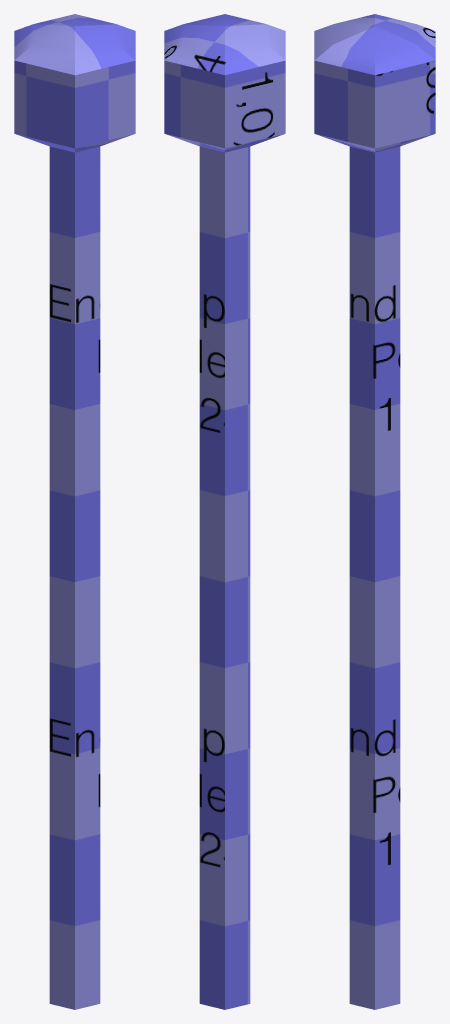
File: Pole_c.fbx
3 views of the same model, side by side, from view 1: azimuth 30°, elevation 25°; view 2: azimuth 150°, elevation 25°; view 3: azimuth 330°, elevation 25° (orthographic).
Visible parts, largest first — view 1: Pole_C; view 2: Pole_C; view 3: Pole_C.
Boxes of the visible parts, x1,y1,x2,y2 form: Pole_C: [14, 14, 135, 1009]; Pole_C: [164, 14, 285, 1009]; Pole_C: [314, 14, 435, 1009].
Bounding box in the file's own units: 13.86 × 106 × 12.
